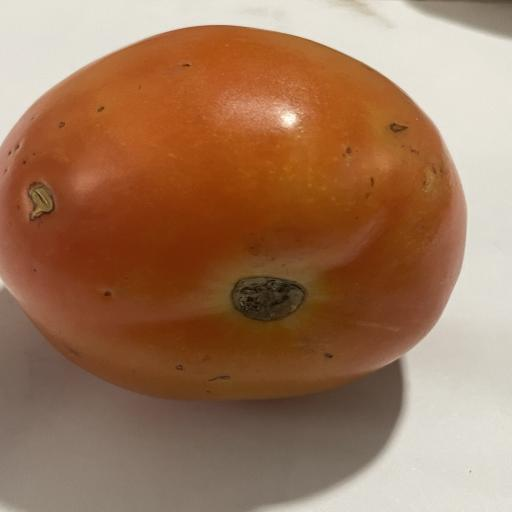ripe: (0, 26, 466, 399)
